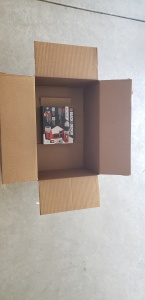innerbox: (35, 76, 98, 178)
outerbox: (2, 42, 132, 214)
product: (43, 101, 74, 143)
